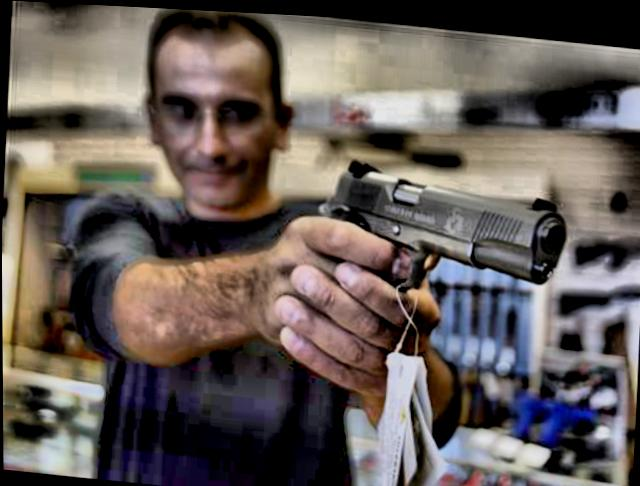pistol: (305, 149, 568, 303)
